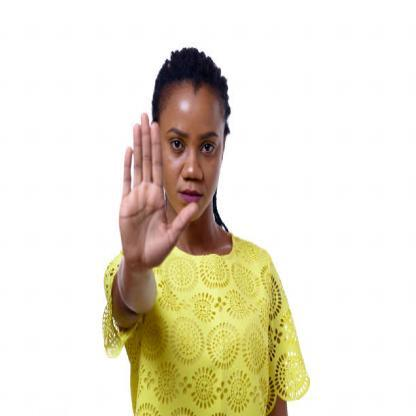stop: (116, 110, 200, 268)
